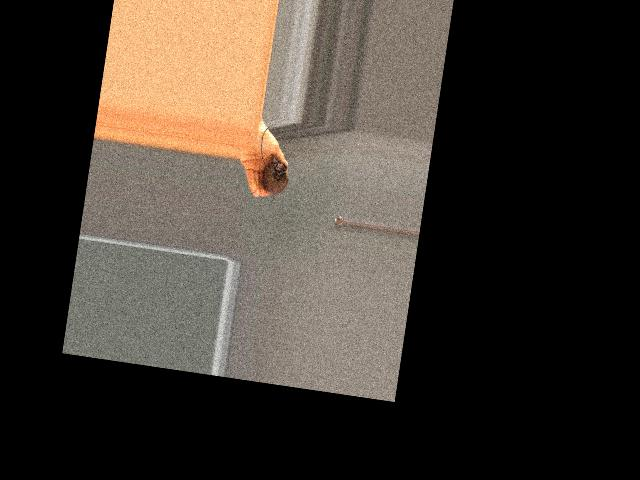beet: (252, 123, 295, 204)
